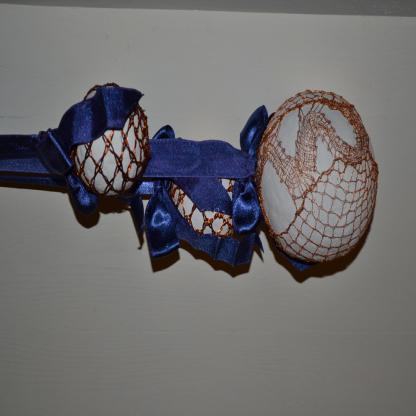Ball: (258, 91, 380, 264), (74, 84, 150, 198)
